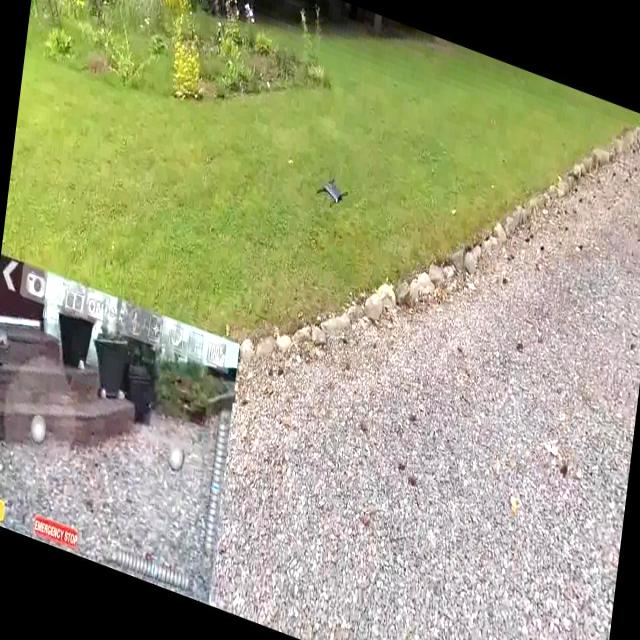drone: (308, 158, 350, 215)
